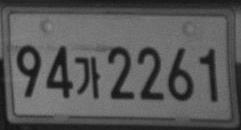1: (198, 48, 223, 103)
2: (136, 46, 164, 100), (108, 45, 134, 99)
4: (45, 45, 73, 99)
6: (167, 48, 194, 101)
9: (16, 44, 42, 97)
가: (74, 56, 101, 99)
